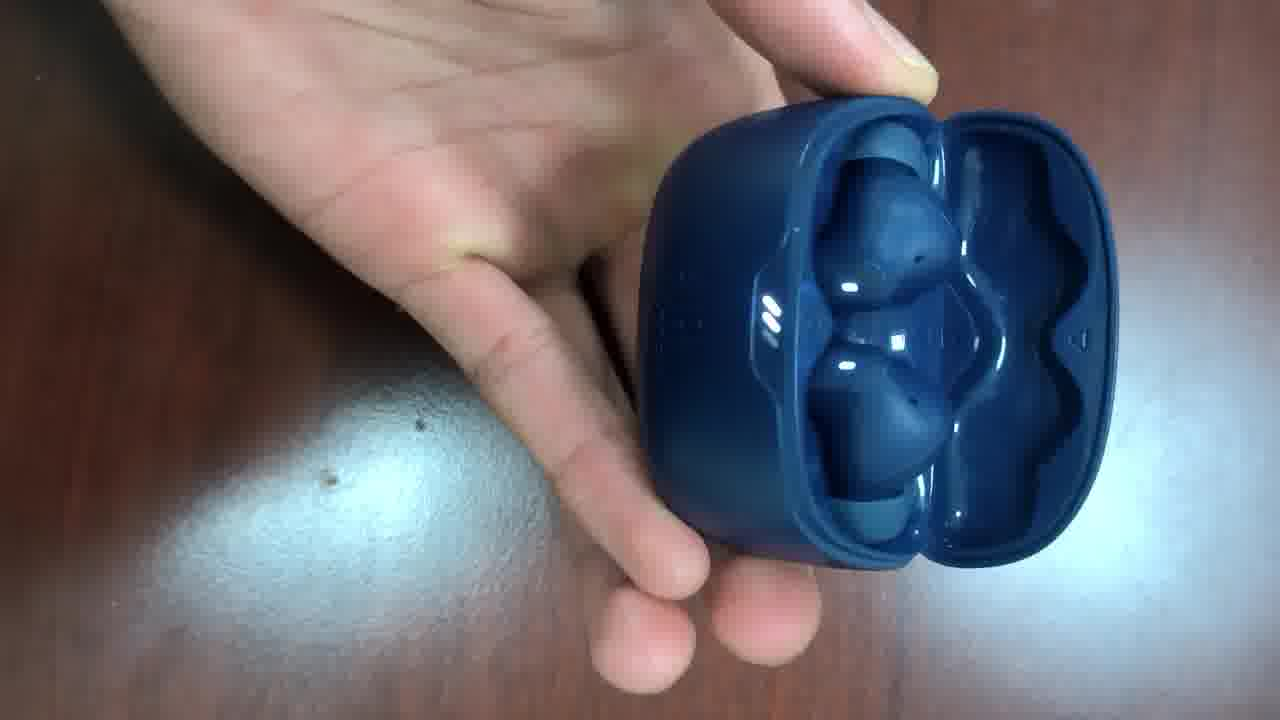Case: (637, 96, 1115, 569)
Earbud: (814, 124, 959, 307), (807, 344, 952, 500)
